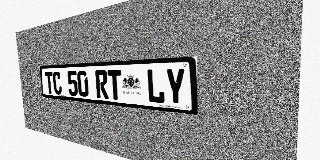0: (77, 71, 89, 97)
5: (67, 71, 78, 96)
C: (52, 71, 62, 95)
L: (146, 69, 165, 104)
R: (95, 70, 109, 99)
T: (107, 70, 122, 100), (45, 72, 54, 94)
Y: (165, 68, 186, 106)
